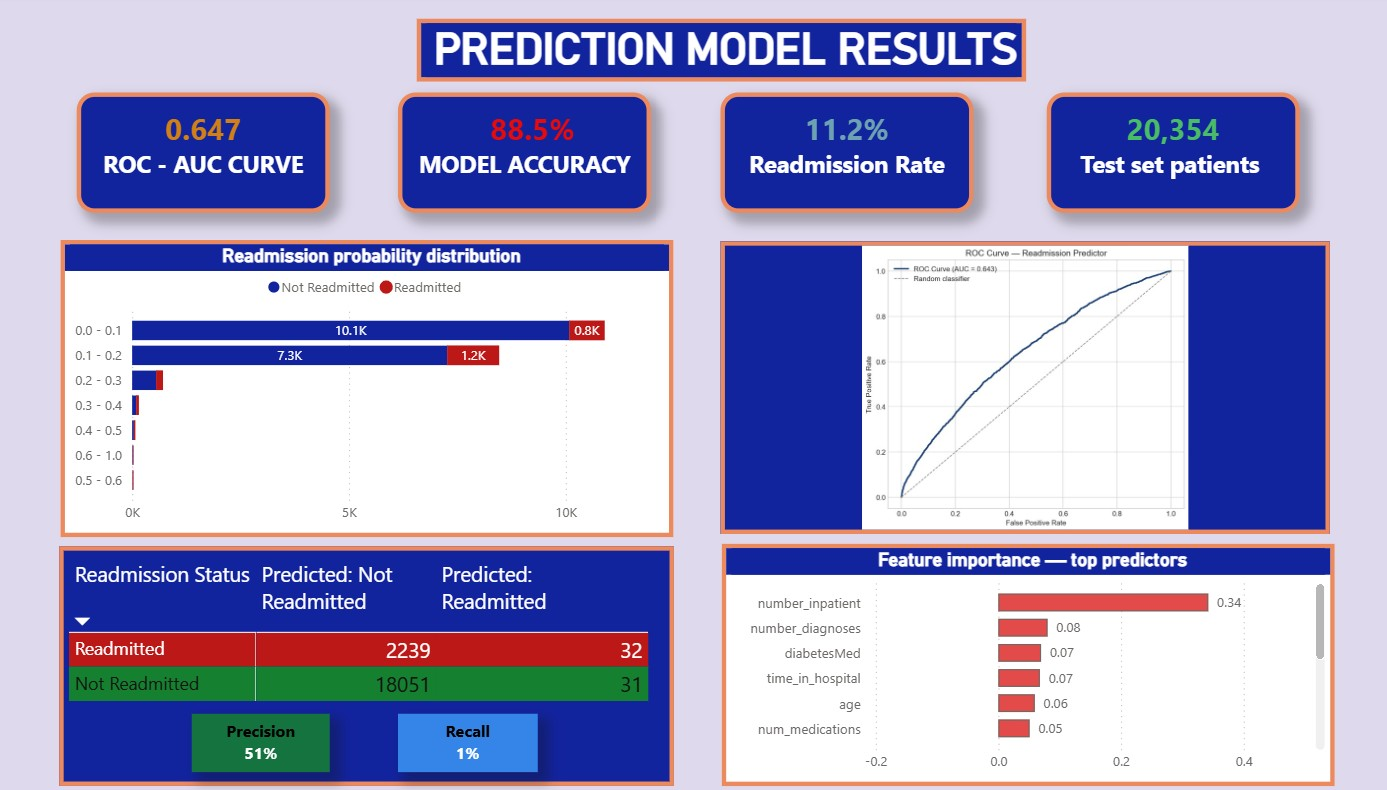

Layout of this report page (visuals, bound fields, positions):
{"tool":"powerbi","page":{"name":"Page 3","canvas":[1280,720],"ordinal":2},"visuals":[{"type":"textbox","box":[85,88.8,228.8,108.8],"z":0},{"type":"textbox","box":[375,88.8,228.8,108.8],"z":1000},{"type":"textbox","box":[667.5,88.8,228.8,108.8],"z":2000},{"type":"textbox","box":[962.5,88.8,228.8,108.8],"z":3000},{"type":"pivotTable","fields":{"Rows":["predictions.Readmission Status"],"Columns":["predictions.Readmission Status Pred"],"Values":["CountNonNull(predictions.actual_readmitted)"]},"box":[68.6,498.6,555.7,217.1],"z":4000},{"type":"image","box":[667.4,223.3,551.2,265.1],"z":5000},{"type":"clusteredBarChart","title":"Feature importance — top predictors","fields":{"Category":["feature_importance.feature"],"Y":["Sum(feature_importance.coefficient)"]},"box":[667.7,496.4,554.5,219.5],"z":6000},{"type":"barChart","title":"Readmission probability distribution","fields":{"Category":["predictions.Probability Bin"],"Y":["CountNonNull(predictions.age)"],"Series":["predictions.Readmission Status"]},"box":[69.8,222.1,554.7,268.6],"z":7000},{"type":"textbox","box":[375,650,126.2,52.5],"z":8000},{"type":"textbox","box":[188.8,650,125,52.5],"z":9000},{"type":"textbox","title":"PREDICTION MODEL RESULTS","box":[392.5,22,551,57],"z":10000}]}

Visuals, with their boxes in screenshot pixels (x1, y1, x2, y2), scaled from the page's 1280x720 canvas onto the 1387x790 screenshot:
textbox: x1=92, y1=97, x2=340, y2=217
textbox: x1=406, y1=97, x2=654, y2=217
textbox: x1=723, y1=97, x2=971, y2=217
textbox: x1=1043, y1=97, x2=1291, y2=217
pivotTable - predictions.Readmission Status x predictions.Readmission Status Pred: x1=74, y1=547, x2=676, y2=785
image: x1=723, y1=245, x2=1320, y2=536
"Feature importance — top predictors" clusteredBarChart: x1=724, y1=545, x2=1324, y2=786
"Readmission probability distribution" barChart: x1=76, y1=244, x2=677, y2=538
textbox: x1=406, y1=713, x2=543, y2=771
textbox: x1=205, y1=713, x2=340, y2=771
"PREDICTION MODEL RESULTS" textbox: x1=425, y1=24, x2=1022, y2=87
